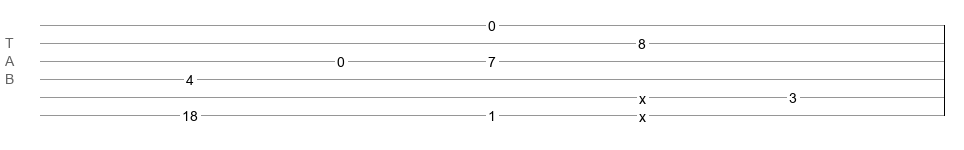0: (337, 54, 345, 64), (488, 18, 496, 28)
1: (488, 108, 496, 118)
18: (182, 108, 198, 118)
3: (789, 90, 797, 100)
4: (186, 72, 194, 82)
7: (488, 54, 496, 64)
8: (638, 36, 646, 46)
x: (639, 91, 646, 99), (639, 109, 646, 117)
